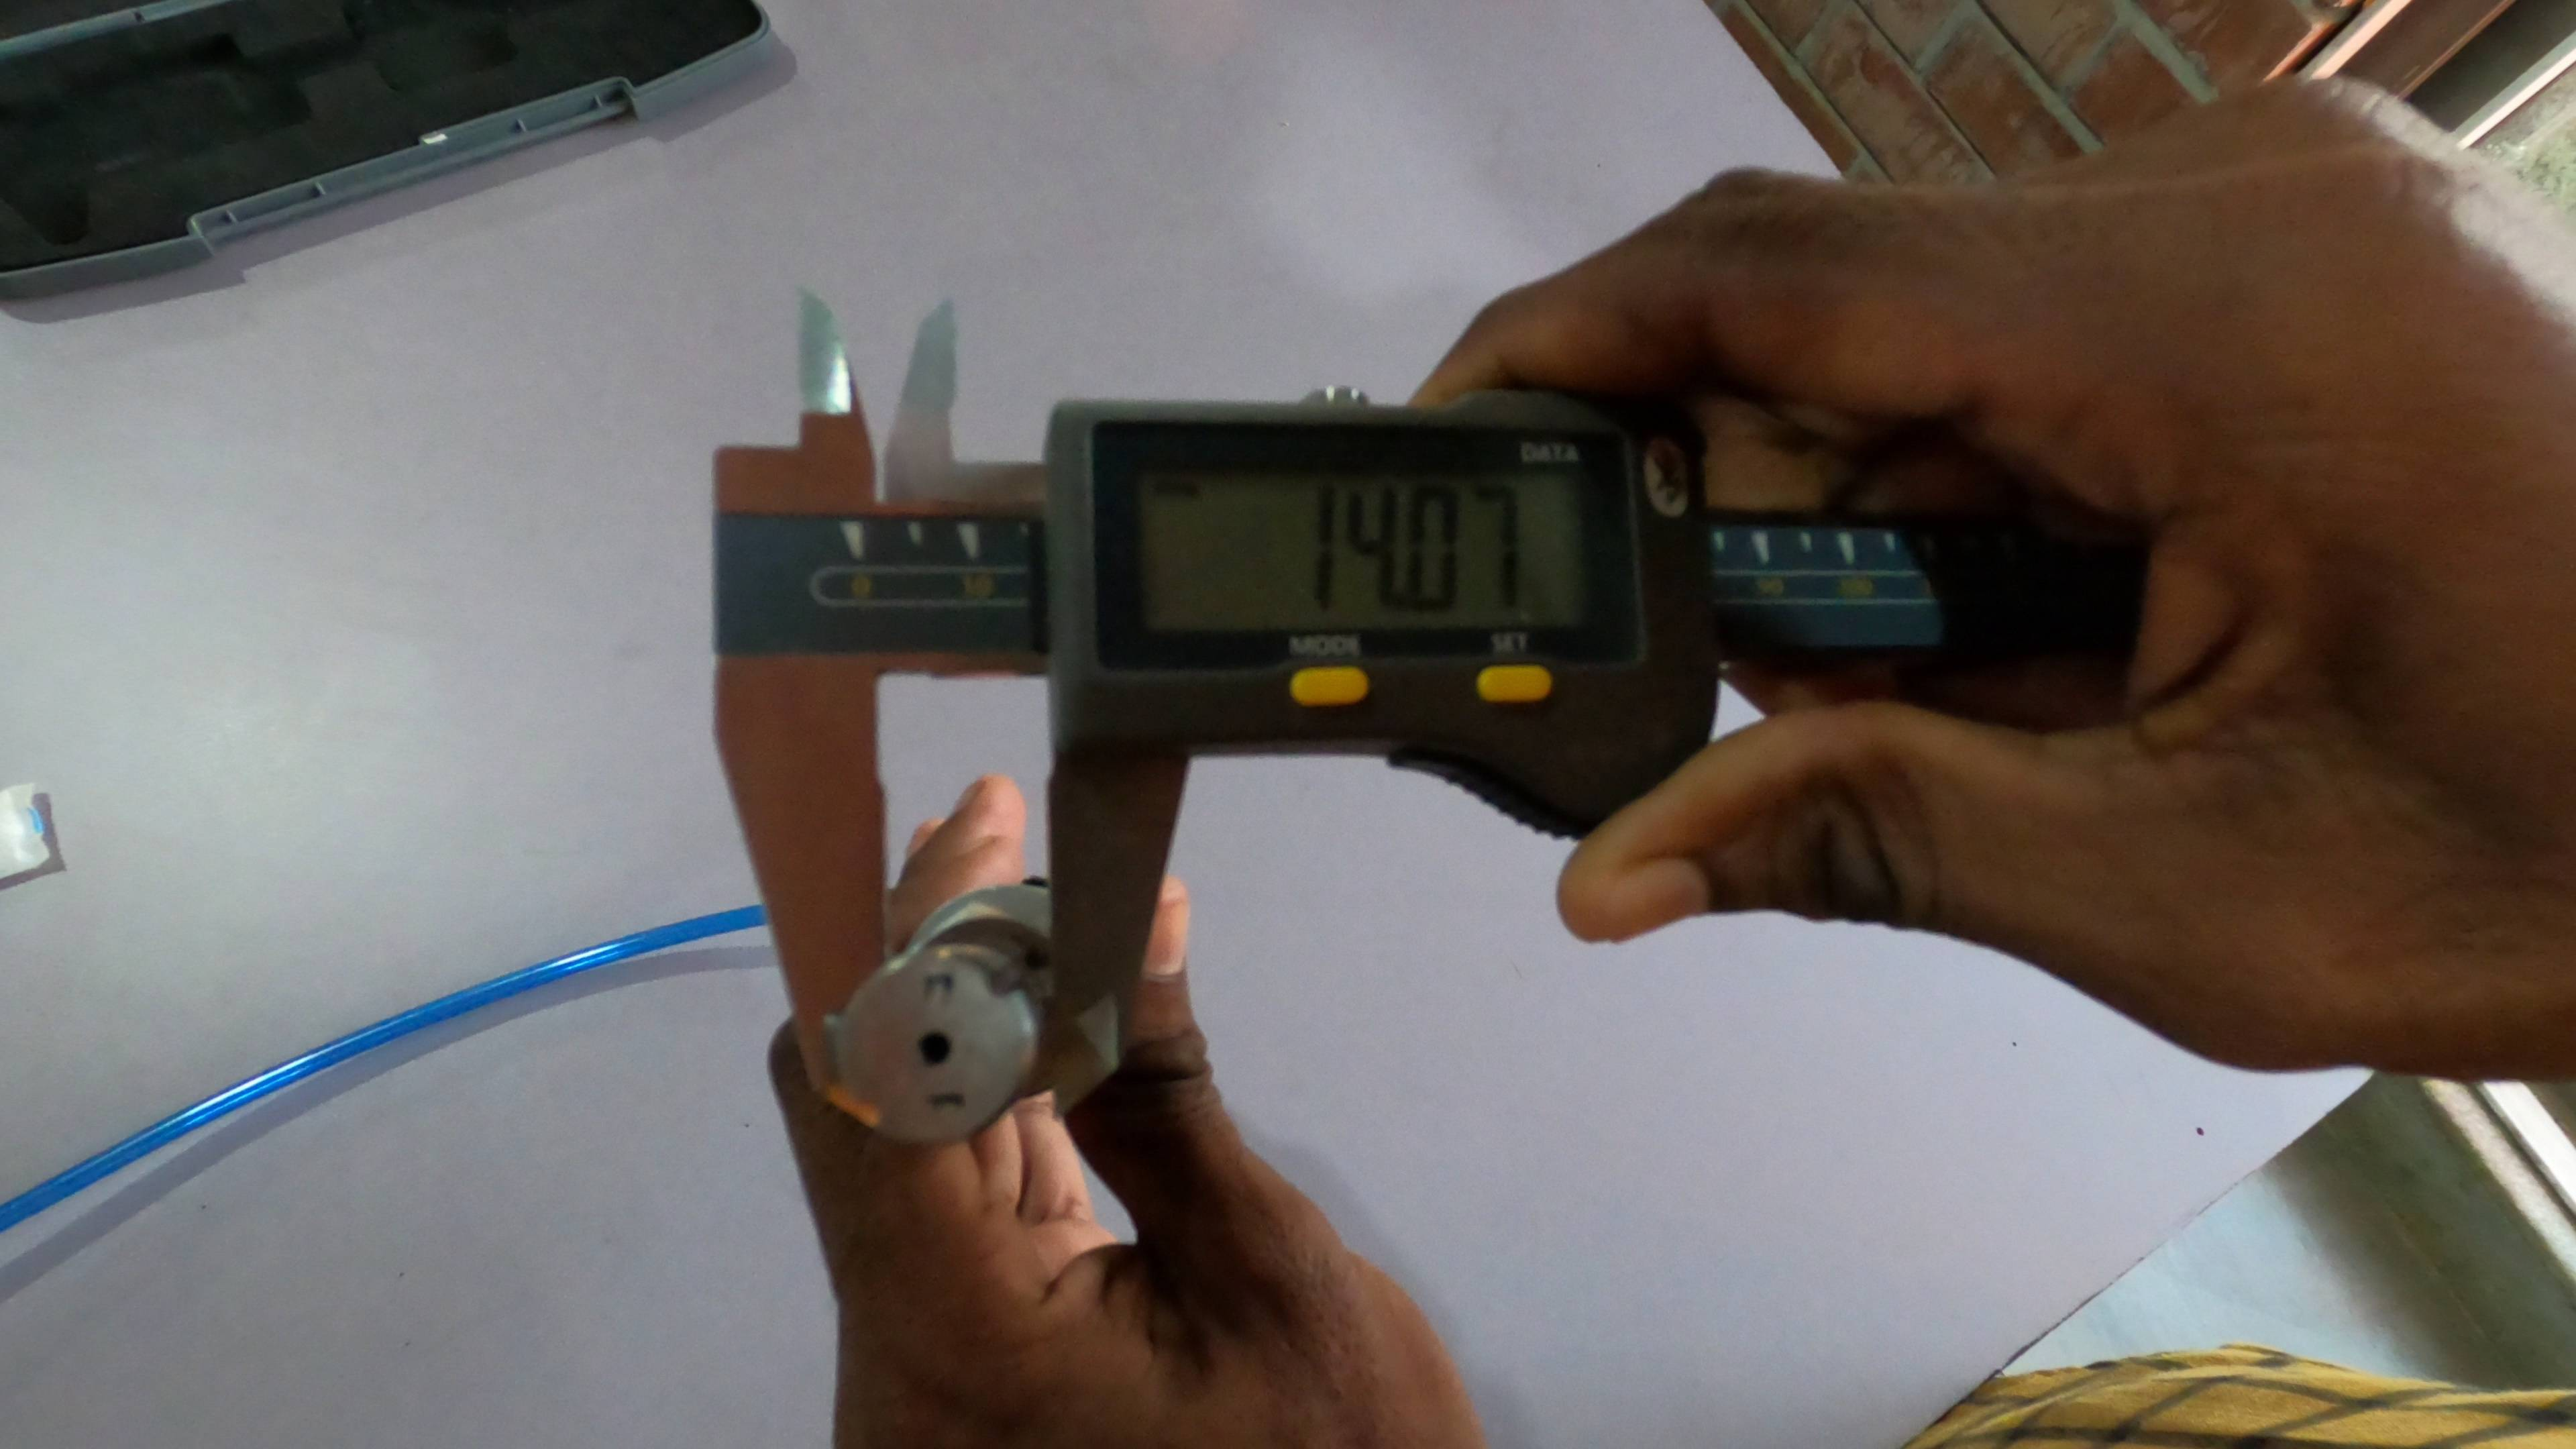vernier_caliper: (717, 287, 2102, 1145)
